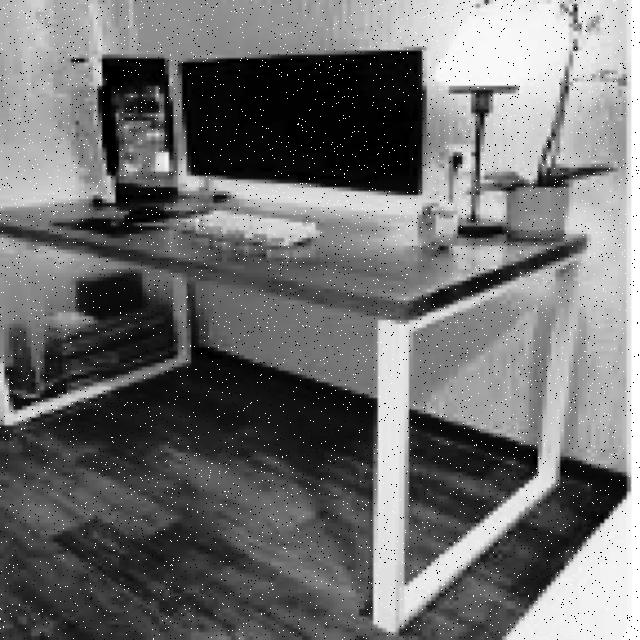table: (0, 191, 591, 632)
